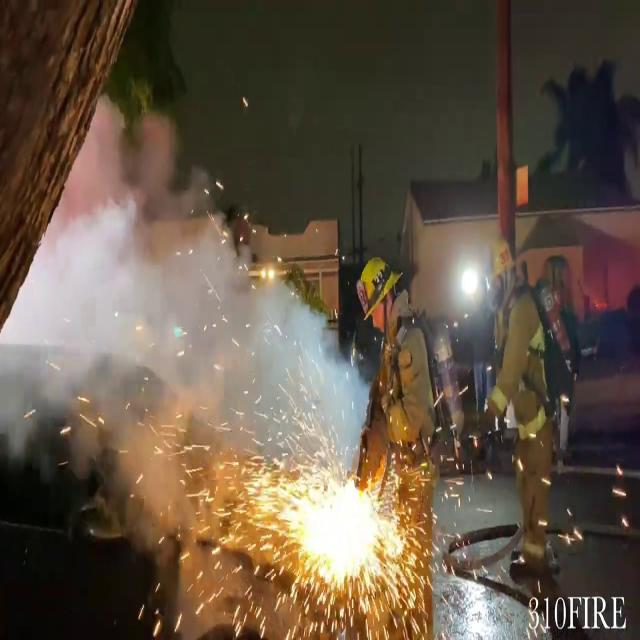Fire: (278, 459, 397, 602)
Smoke: (0, 92, 241, 530)
